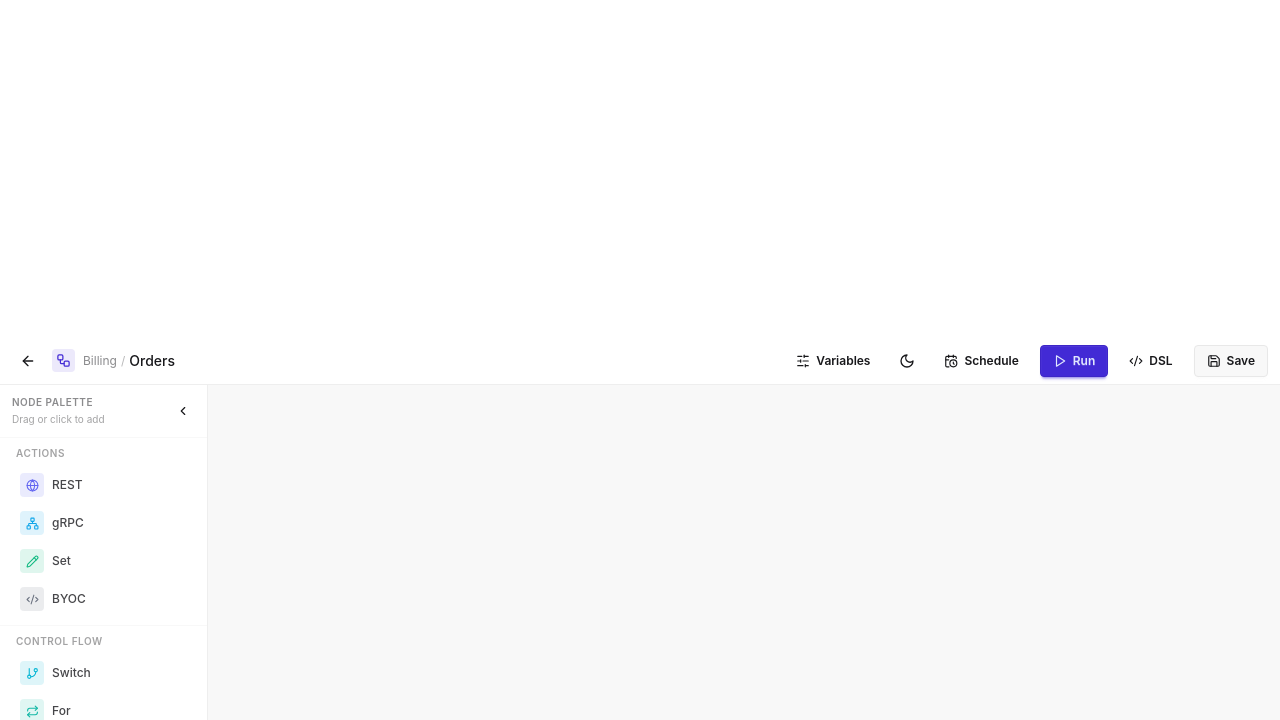
Scenario: builder page › reports a run that fails to start
This screenshot has width=1280, height=720.
(page scrolled)
Click the button "Run": [1074, 360] box [1040,344,1108,376]
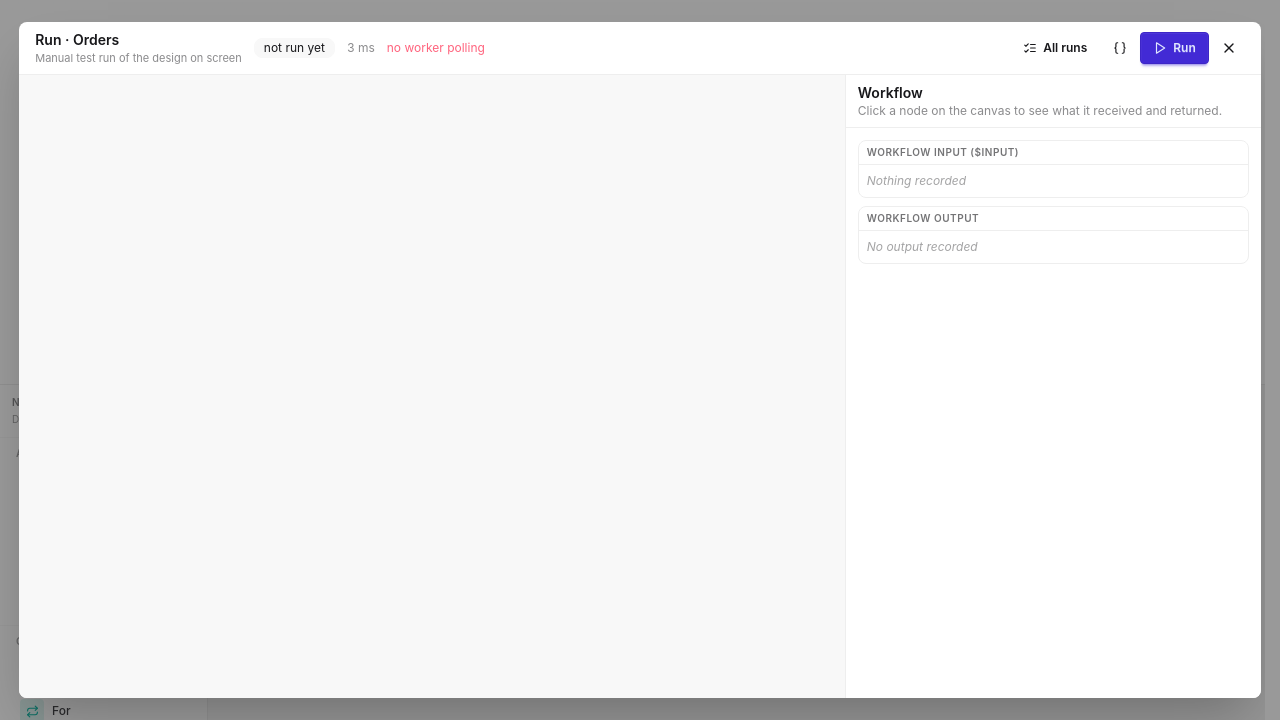
Expected: the text "no worker polling" is shown, [387,40,485,56]
Expected: the text "not run yet" is shown, [254,38,335,58]
Click the button "Run": [1175, 48] box [1140,32,1209,64]
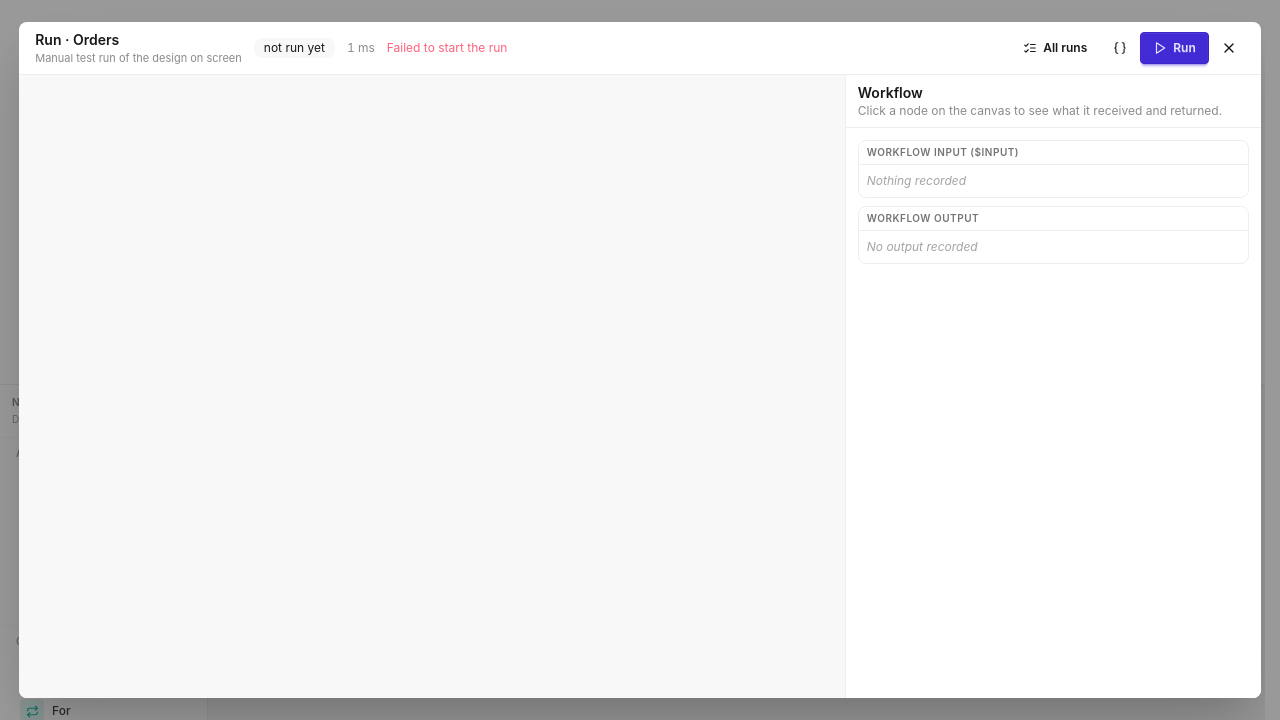
Expected: the text "Failed to start the run" is shown, [387,40,507,56]
